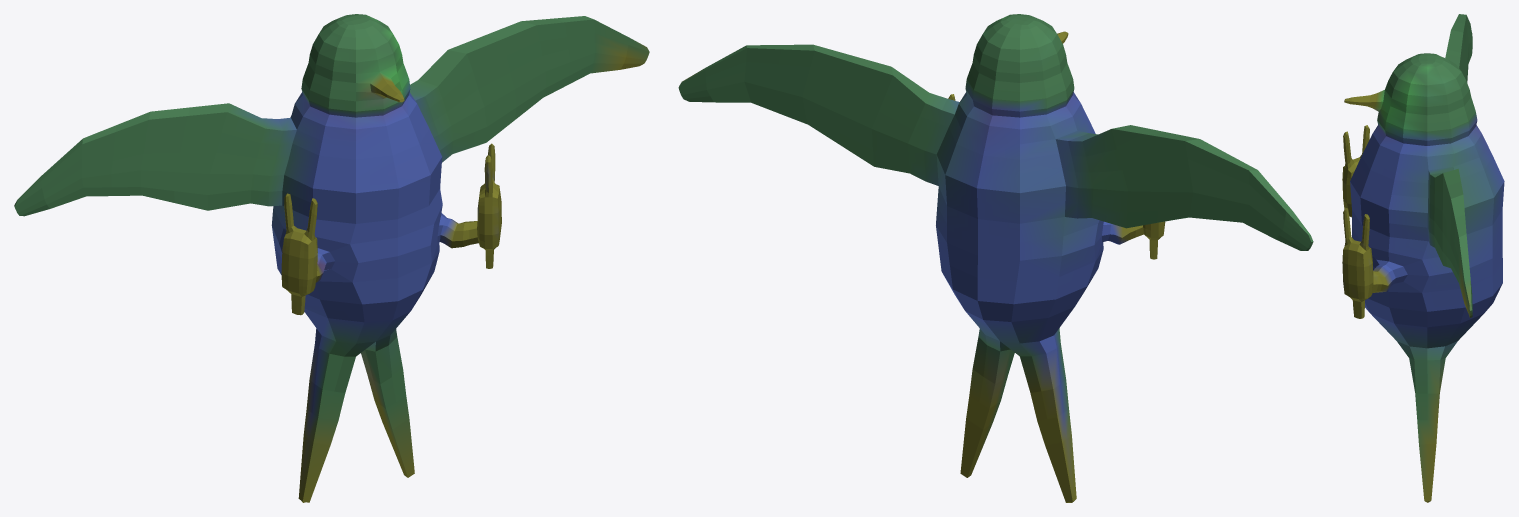
File: Passarinho_TI2.fbx
The picture shows the model from 3 angles, left to right: view 1: azimuth 30°, elevation 25°; view 2: azimuth 150°, elevation 25°; view 3: azimuth 270°, elevation 25°; orthographic projection. The views are drawn at different scales.
Parts seen in each view (by area): view 1: Pombo; view 2: Pombo; view 3: Pombo.
Boxes of the visible parts, x1=… form: Pombo: x1=14, y1=14, x2=649, y2=502; Pombo: x1=678, y1=14, x2=1313, y2=502; Pombo: x1=1342, y1=14, x2=1504, y2=502.
Bounding box in the file's own units: 43.92 × 10.85 × 31.09.
